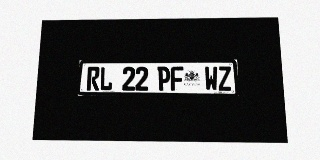2: (122, 67, 135, 91), (135, 67, 148, 91)
F: (171, 66, 184, 91)
L: (99, 67, 113, 91)
P: (157, 66, 170, 91)
R: (86, 67, 100, 91)
W: (204, 66, 218, 91)
Z: (218, 66, 232, 91)
